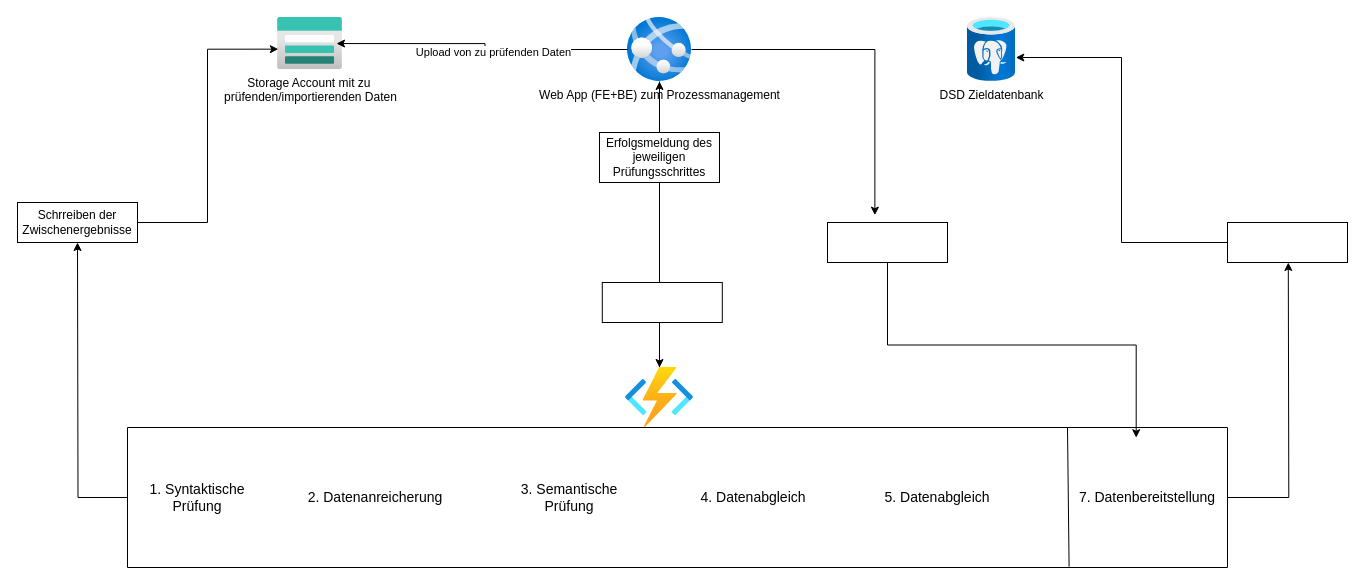
Some shapes in this 1365 by 585 pixel diagram are drawn without their labels. The shapes that lost their labels are listed below. From the top down, each one's centre as x and y in pixels, then its label:
the point at 887,242: 6. Manuelles Clearing Output
the point at 1287,242: Schreiben in die Datenbank
the point at 661,302: auslösender http trigger
